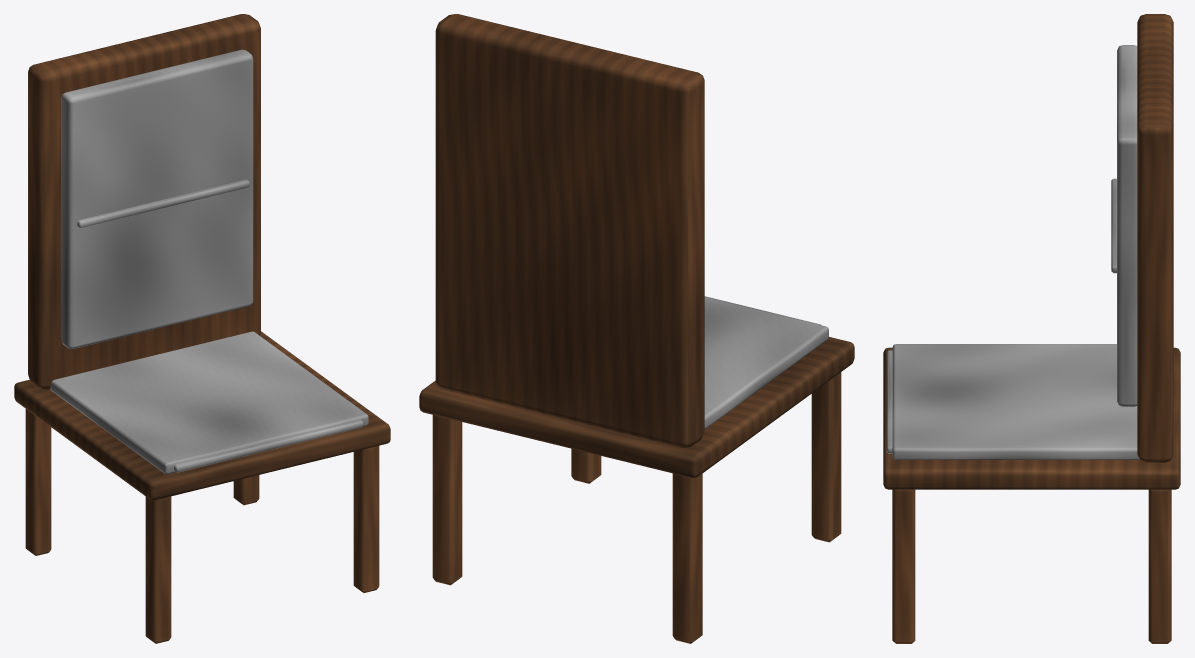
Rendered from Furn_Council_Chair.fbx.
3 views of the same model, side by side, from view 1: azimuth 30°, elevation 25°; view 2: azimuth 150°, elevation 25°; view 3: azimuth 270°, elevation 25° (orthographic). The views are drawn at different scales.
Parts seen in each view (by area): view 1: Furn_Council_Chair; view 2: Furn_Council_Chair; view 3: Furn_Council_Chair.
Part boxes in pixels (x1,y1,x2,y2): Furn_Council_Chair: (14,14,390,643); Furn_Council_Chair: (419,14,854,643); Furn_Council_Chair: (883,14,1180,643).
Bounding box in the file's own units: 0.65 × 1.25 × 0.65.
2 materials, 2 textured.
